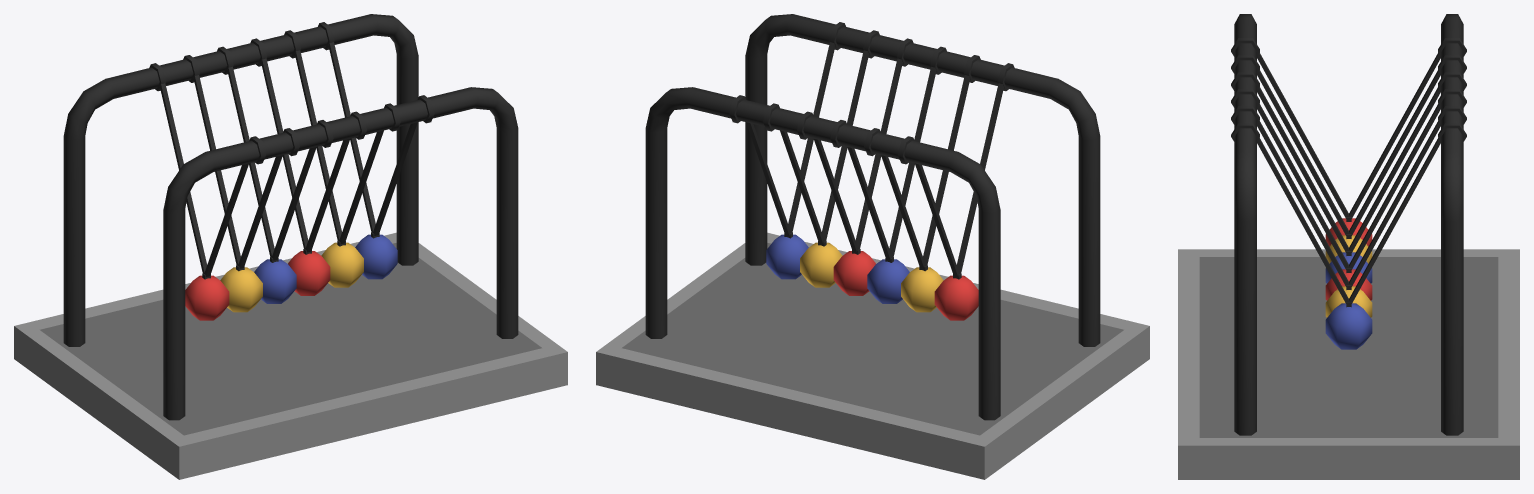
File: NewtonsCradle_01.fbx
The picture shows the model from 3 angles, left to right: view 1: azimuth 30°, elevation 25°; view 2: azimuth 150°, elevation 25°; view 3: azimuth 270°, elevation 25°; orthographic projection. The views are drawn at different scales.
Parts seen in each view (by area): view 1: NewtonsCradle_01; view 2: NewtonsCradle_01; view 3: NewtonsCradle_01.
Part boxes in pixels (bbox=[...]): NewtonsCradle_01: bbox=[14, 14, 567, 479]; NewtonsCradle_01: bbox=[596, 14, 1149, 479]; NewtonsCradle_01: bbox=[1178, 14, 1519, 479].
Size of the model in its own units: 0.3481 by 0.2481 by 0.2561.
